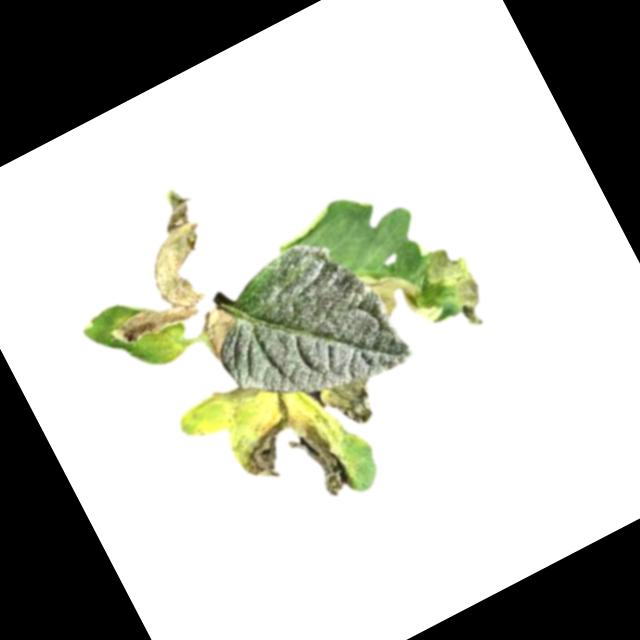Late_blight: (62, 180, 238, 356), (219, 390, 365, 536), (403, 226, 497, 342), (357, 249, 439, 342), (318, 368, 388, 439), (193, 372, 265, 431), (195, 300, 250, 361)
healthy: (188, 219, 415, 437)
